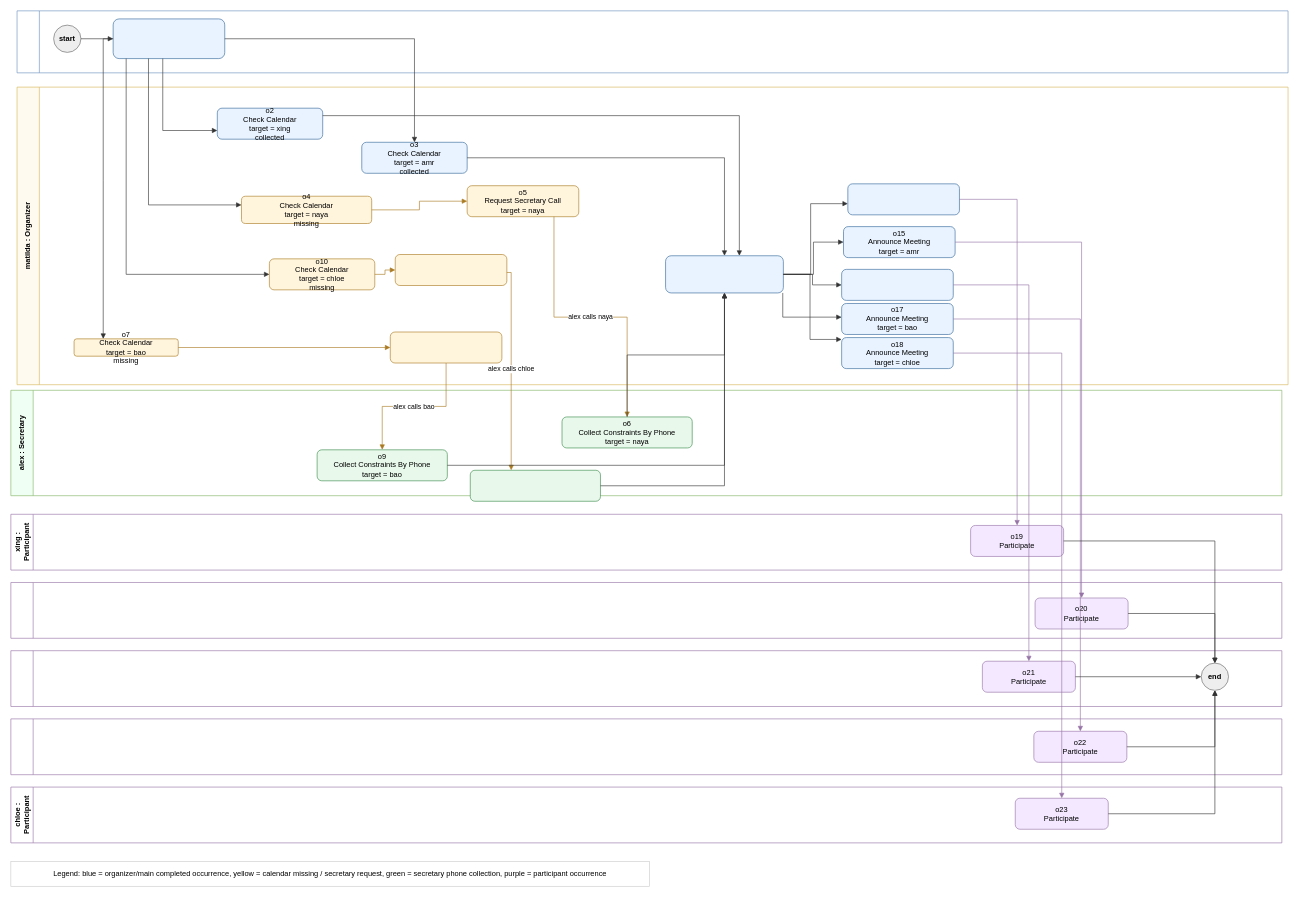
This 1299x897 diagram has some shape labels left out. The shapes that lost their labels are listed below. From the top down, each one's box as (x1, y1, x2, y2) in pixels, then its label:
(113, 18, 225, 59): o1 Decide Meeting Details
(16, 10, 1288, 73): abdul : Initiator
(847, 183, 959, 215): o14 Announce Meeting target = xing
(395, 254, 507, 286): o11 Request Secretary Call target = chloe
(665, 255, 783, 293): o13 Choose Time And Date
(841, 269, 953, 300): o16 Announce Meeting target = naya
(390, 331, 502, 363): o8 Request Secretary Call target = bao
(470, 470, 600, 501): o12 Collect Constraints By Phone target = chloe
(10, 582, 1282, 638): amr : Participant
(10, 650, 1282, 706): naya : Participant
(10, 718, 1282, 775): bao : Participant
